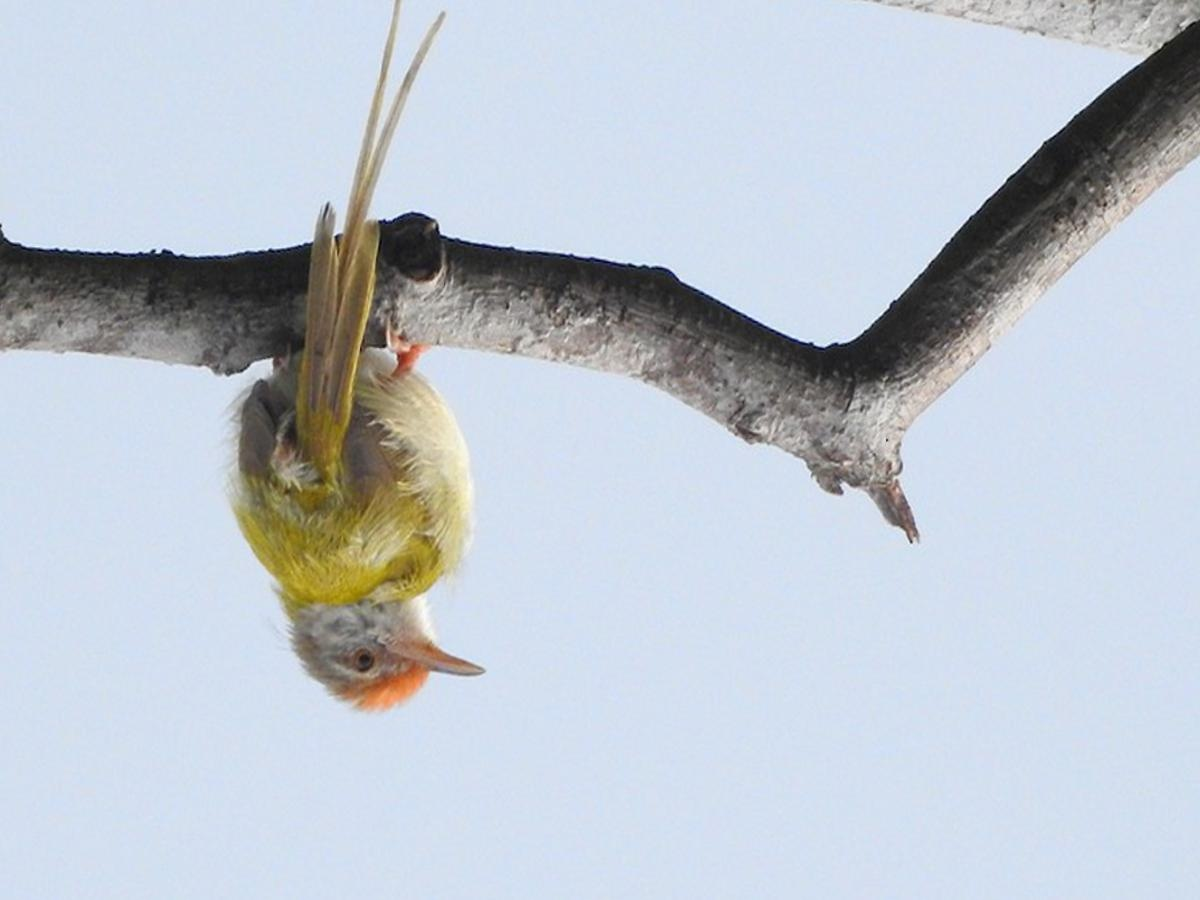tailorbird: (170, 127, 544, 748)
